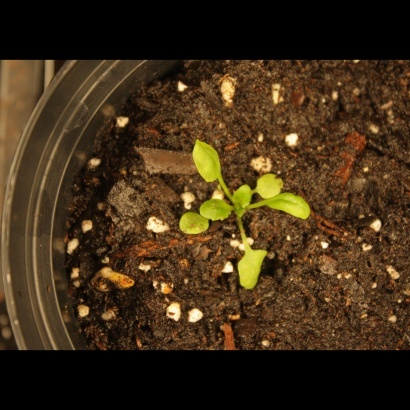leaf: (228, 244, 274, 293), (186, 138, 229, 185), (261, 192, 313, 221), (175, 206, 211, 240), (252, 173, 290, 199), (230, 181, 255, 216), (201, 198, 233, 224)
